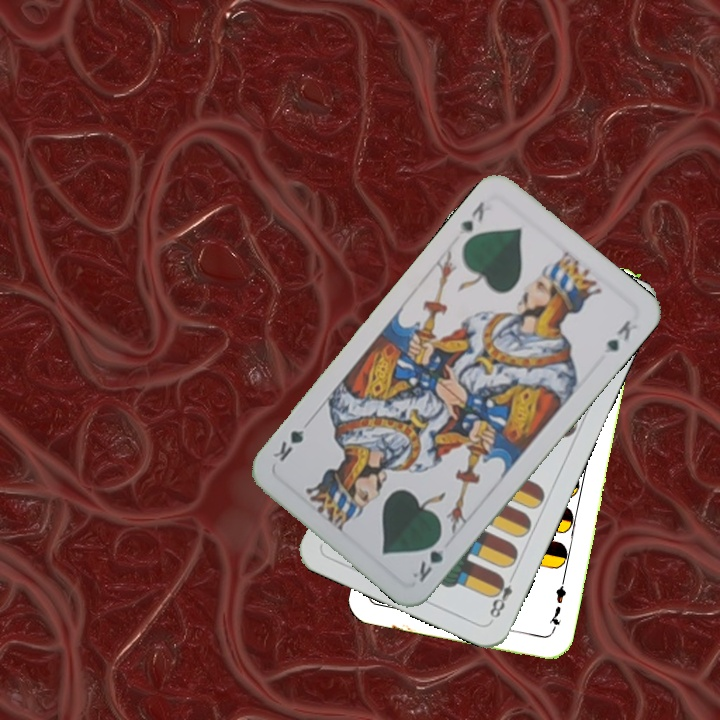E7: (545, 576, 569, 635)
E8: (485, 568, 518, 621)
GK: (407, 531, 449, 585), (456, 197, 487, 239)
